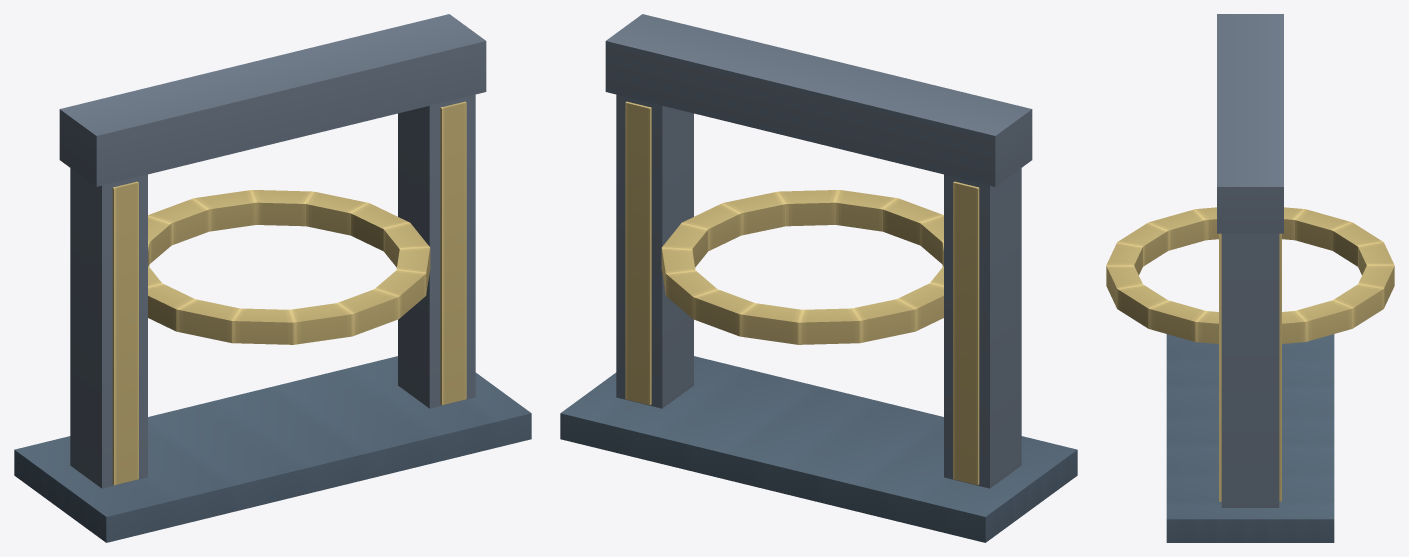
The model's file is prism_portal.glb.
The picture shows the model from 3 angles, left to right: view 1: azimuth 30°, elevation 25°; view 2: azimuth 150°, elevation 25°; view 3: azimuth 270°, elevation 25°; orthographic projection. The views are drawn at different scales.
Visible parts, largest first — view 1: prism_portal; view 2: prism_portal; view 3: prism_portal.
Boxes of the visible parts, x1,y1,x2,y2 form: prism_portal: (14, 14, 531, 542); prism_portal: (560, 14, 1077, 542); prism_portal: (1106, 14, 1394, 542).
Size of the model in its own units: 4.8 by 4.12 by 3.1.
1 material, 1 textured.
